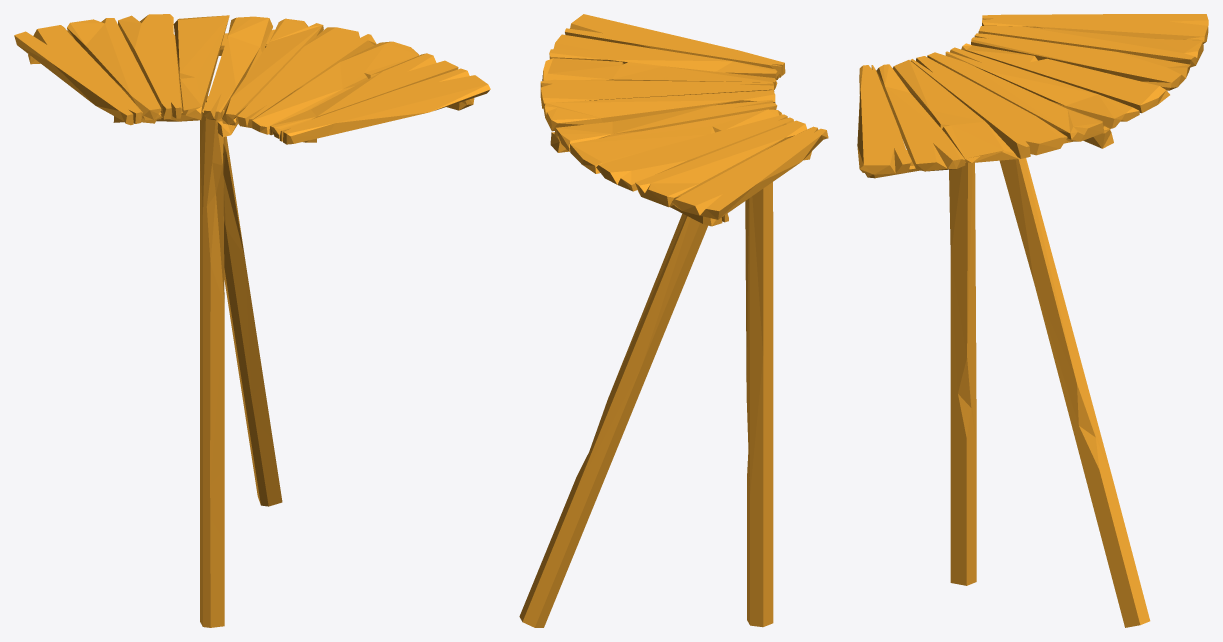
File: SM_Palisade_Gallery_Corner_Round_3x3_Convex_A.fbx
The picture shows the model from 3 angles, left to right: view 1: azimuth 30°, elevation 25°; view 2: azimuth 150°, elevation 25°; view 3: azimuth 270°, elevation 25°; orthographic projection.
Visible parts, largest first — view 1: palisade-gallery-corner-round-3x3-convex-a; view 2: palisade-gallery-corner-round-3x3-convex-a; view 3: palisade-gallery-corner-round-3x3-convex-a.
Part boxes in pixels (x1,y1,x2,y2): palisade-gallery-corner-round-3x3-convex-a: [14, 14, 490, 627]; palisade-gallery-corner-round-3x3-convex-a: [519, 14, 828, 627]; palisade-gallery-corner-round-3x3-convex-a: [857, 14, 1208, 627].
Bounding box in the file's own units: 2.98 × 4.84 × 2.92.
